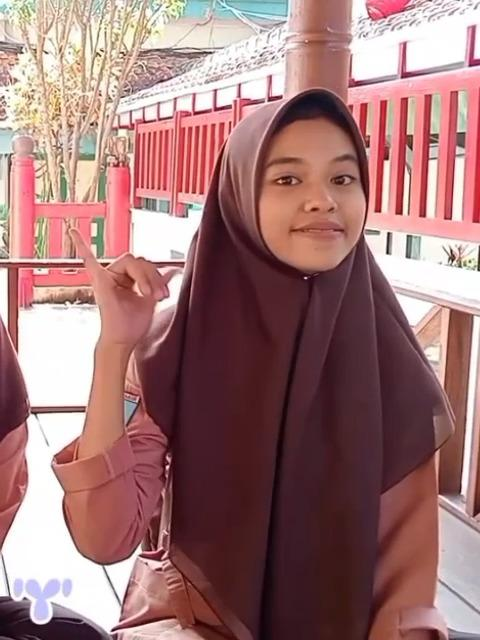Y: (64, 224, 184, 340)
